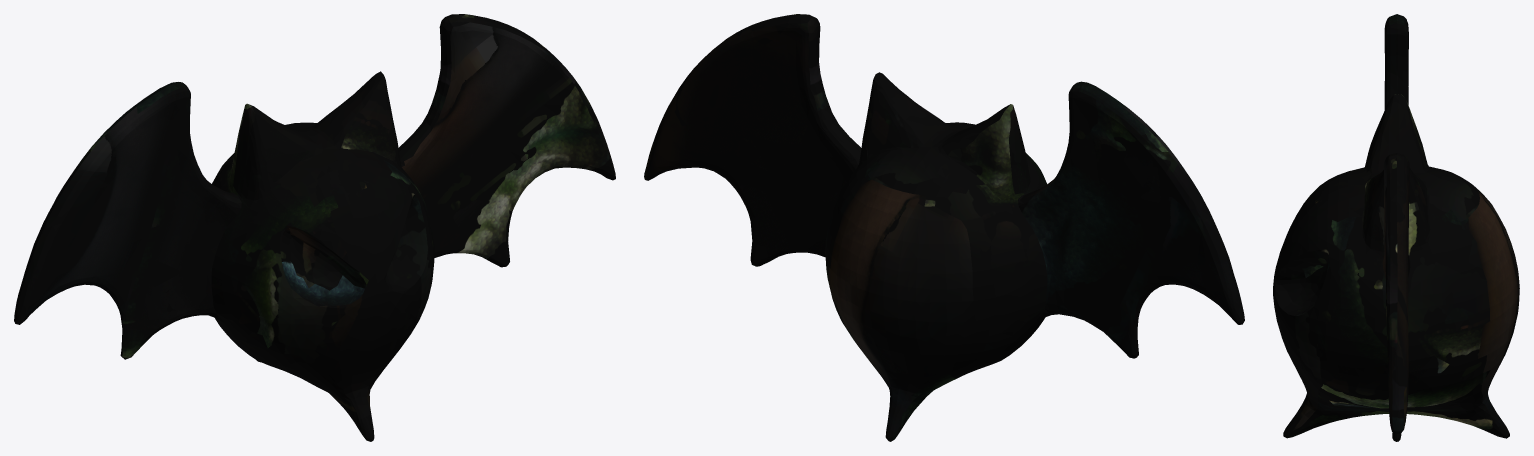
File: batfbx.fbx
3 renders of one model, left to right at view 1: azimuth 30°, elevation 25°; view 2: azimuth 150°, elevation 25°; view 3: azimuth 270°, elevation 25°, orthographic.
Parts seen in each view (by area): view 1: geometry_0.003_Baked; view 2: geometry_0.003_Baked; view 3: geometry_0.003_Baked.
Boxes of the visible parts, x1,y1,x2,y2 form: geometry_0.003_Baked: (14,14,615,441); geometry_0.003_Baked: (644,14,1244,441); geometry_0.003_Baked: (1273,14,1519,441).
Size of the model in its own units: 300 by 169 by 107.
